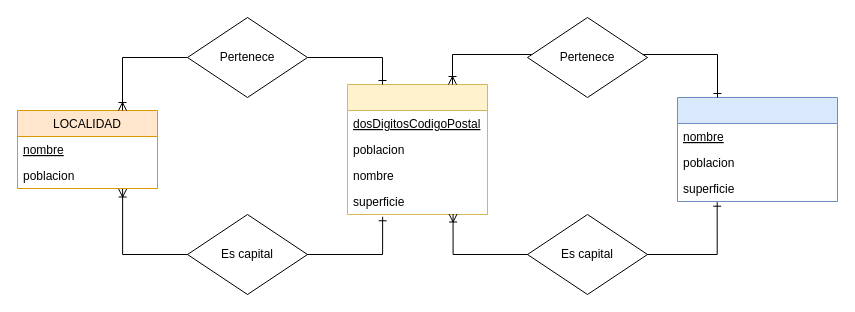
This 855x312 diagram has some shape labels left out. Here are the shapes that lost their labels. From the top down, the box of each, then its label:
(346, 84, 488, 214): PROVINCIA
(676, 96, 838, 202): COMUNIDAD_AUTONOMA
